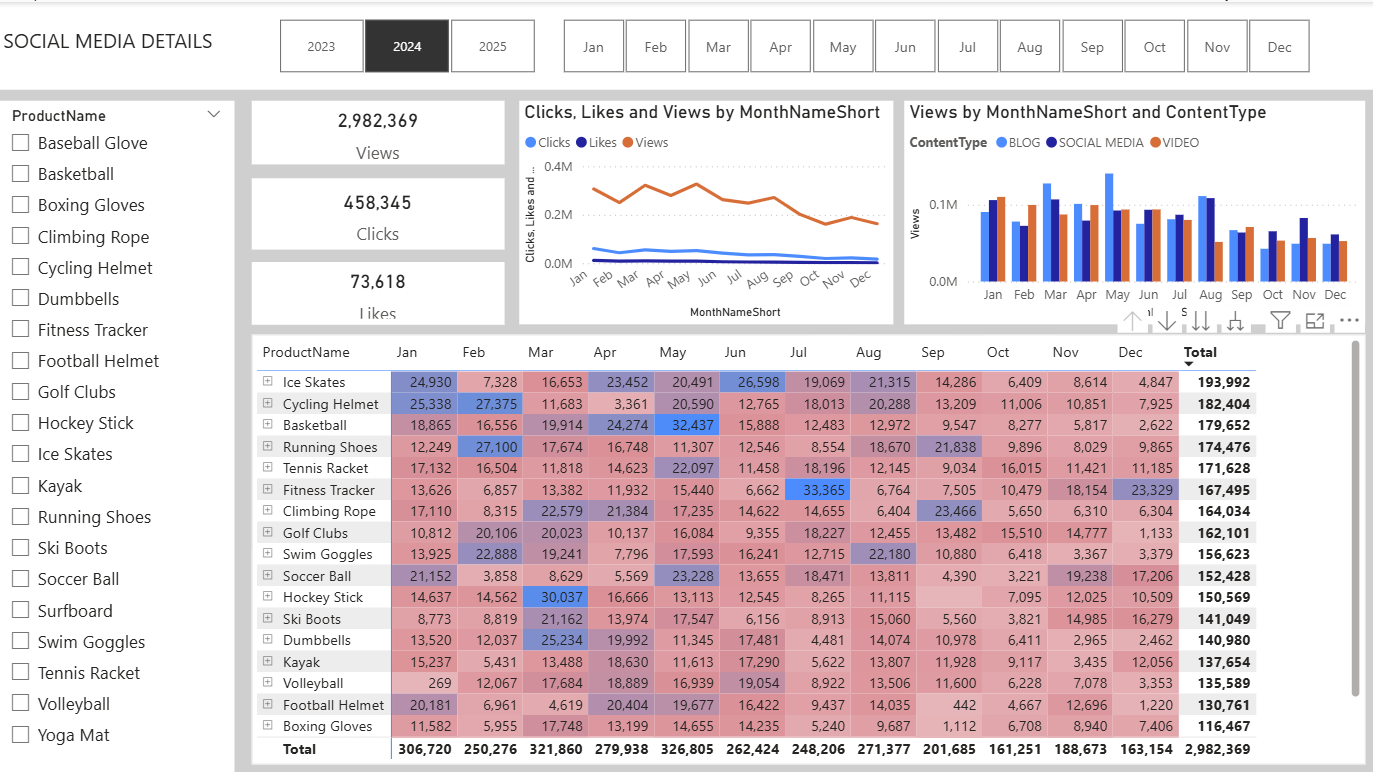

The page's visual inventory and layout, read from the dashboard file:
{"tool":"powerbi","page":{"name":"Social Media Details","canvas":[1280,720],"ordinal":2},"visuals":[{"type":"textbox","box":[0,0,1280.2,81.9],"z":0},{"type":"slicer","fields":{"Values":["dim_products.ProductName"]},"box":[0,91.9,219.8,627.9],"z":1000},{"type":"textbox","box":[236,510.5,130.2,196.5],"z":2000},{"type":"card","fields":{"Values":["_Calculations.Clicks"]},"box":[236,164,234.9,66.3],"z":3000},{"type":"card","fields":{"Values":["_Calculations.Views"]},"box":[236,91.9,234.9,59.3],"z":4000},{"type":"card","fields":{"Values":["_Calculations.Likes"]},"box":[236,241.9,234.9,58.1],"z":5000},{"type":"slicer","fields":{"Values":["Calender.Year"]},"box":[236,9.3,287.2,62.8],"z":6000},{"type":"slicer","fields":{"Values":["Calender.MonthNameShort"]},"box":[500,9.3,744.2,62.8],"z":7000},{"type":"lineChart","fields":{"Y":["_Calculations.Clicks","_Calculations.Likes","_Calculations.Views"],"Category":["Calender.MonthNameShort"]},"box":[484.9,91.9,347.7,208.1],"z":8000},{"type":"clusteredColumnChart","fields":{"Category":["Calender.MonthNameShort"],"Y":["_Calculations.Views"],"Series":["fact_engagement_data.ContentType"]},"box":[843,91.9,429.1,208.1],"z":9000},{"type":"pivotTable","fields":{"Values":["_Calculations.Views"],"Rows":["dim_products.ProductName","fact_engagement_data.ContentType"],"Columns":["Calender.MonthNameShort"]},"box":[236,309.3,1036,400],"z":10000}]}

Visuals, with their boxes in screenshot pixels (x1, y1, x2, y2), scaled from the page's 1280x720 canvas onto the 1373x772 screenshot:
textbox: [x1=0, y1=0, x2=1372, y2=88]
slicer - dim_products.ProductName: [x1=0, y1=99, x2=236, y2=771]
textbox: [x1=253, y1=547, x2=393, y2=758]
card - _Calculations.Clicks: [x1=253, y1=176, x2=505, y2=247]
card - _Calculations.Views: [x1=253, y1=99, x2=505, y2=162]
card - _Calculations.Likes: [x1=253, y1=259, x2=505, y2=322]
slicer - Calender.Year: [x1=253, y1=10, x2=561, y2=77]
slicer - Calender.MonthNameShort: [x1=536, y1=10, x2=1335, y2=77]
lineChart - _Calculations.Clicks x _Calculations.Likes: [x1=520, y1=99, x2=893, y2=322]
clusteredColumnChart - Calender.MonthNameShort x _Calculations.Views: [x1=904, y1=99, x2=1365, y2=322]
pivotTable - _Calculations.Views x dim_products.ProductName: [x1=253, y1=332, x2=1364, y2=761]
